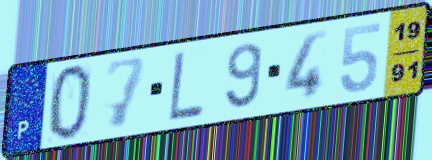0: (46, 62, 94, 143)
4: (282, 29, 326, 102)
5: (338, 19, 383, 94)
7: (103, 54, 148, 133)
9: (224, 41, 265, 111)
L: (166, 49, 205, 122)
